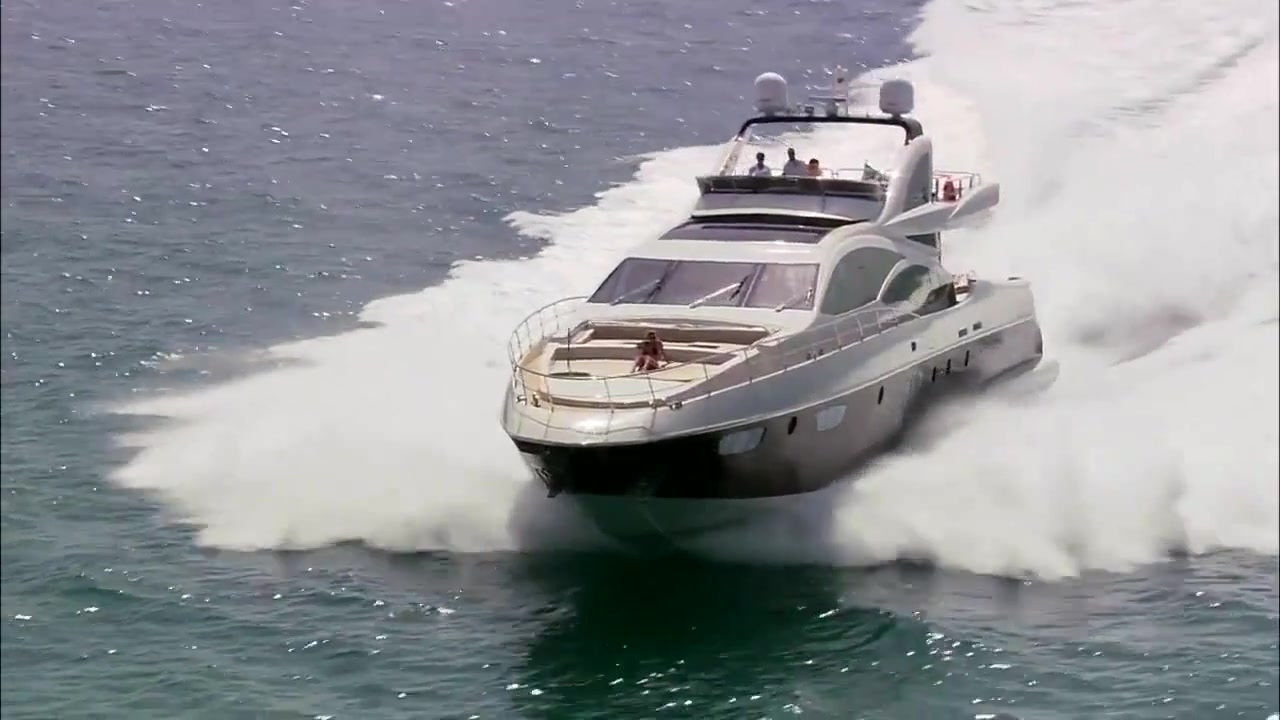boat: (498, 68, 1052, 559)
